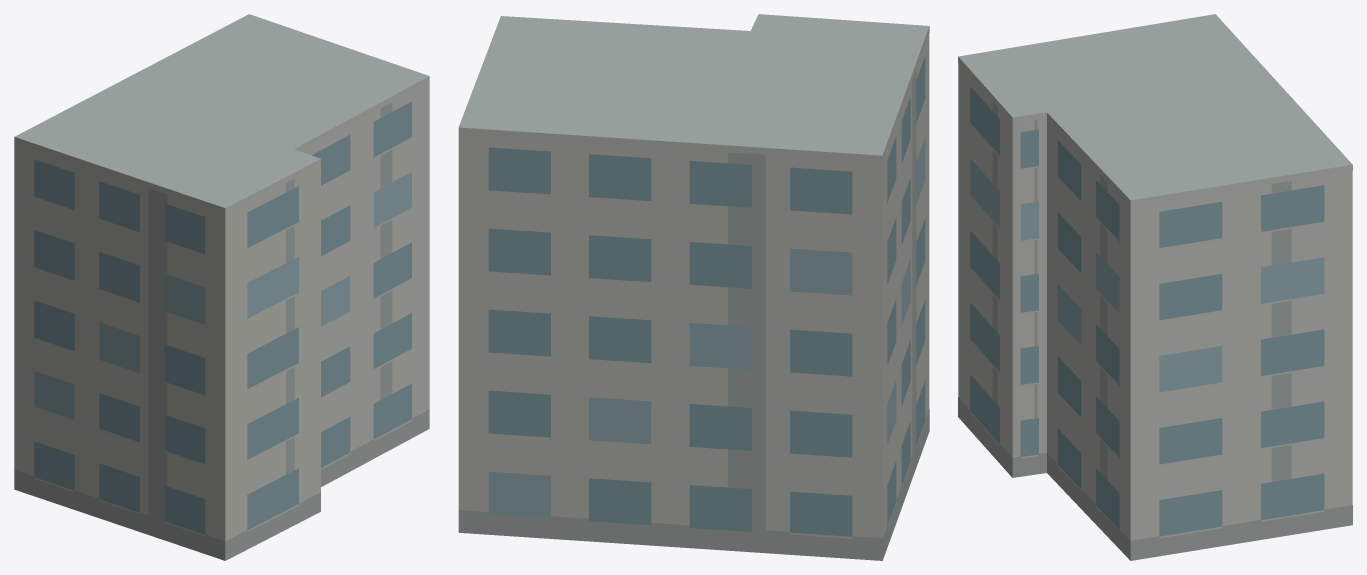
The model's file is survey-upis-33041741.glb.
The picture shows the model from 3 angles, left to right: view 1: azimuth 30°, elevation 25°; view 2: azimuth 150°, elevation 25°; view 3: azimuth 270°, elevation 25°; orthographic projection. The views are drawn at different scales.
Parts seen in each view (by area): view 1: survey-upis-33041741.tmp; view 2: survey-upis-33041741.tmp; view 3: survey-upis-33041741.tmp.
Part boxes in pixels (x1,y1,x2,y2): survey-upis-33041741.tmp: (14,14,429,560); survey-upis-33041741.tmp: (458,14,929,560); survey-upis-33041741.tmp: (958,14,1352,560).
Size of the model in its own units: 15.69 by 14.14 by 14.04.
